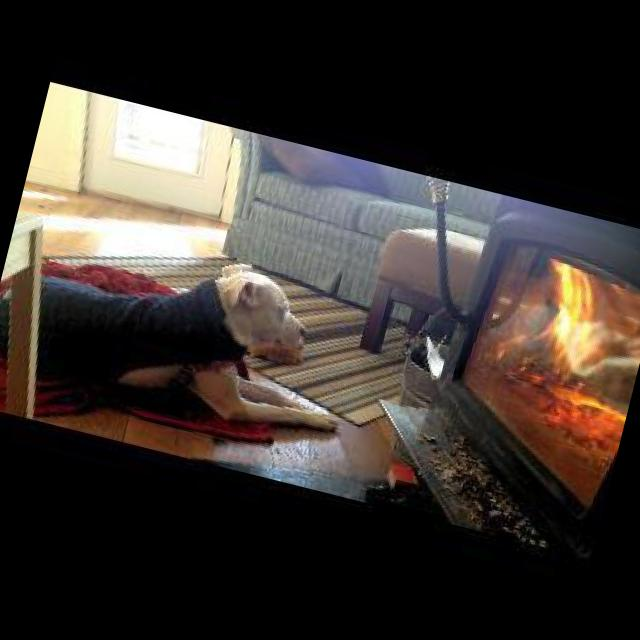Fire: (491, 249, 640, 440)
